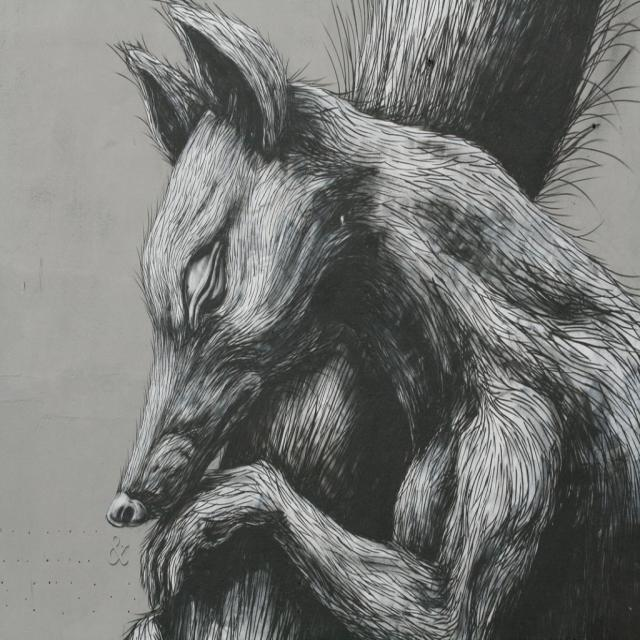Pig: (104, 0, 639, 639)
